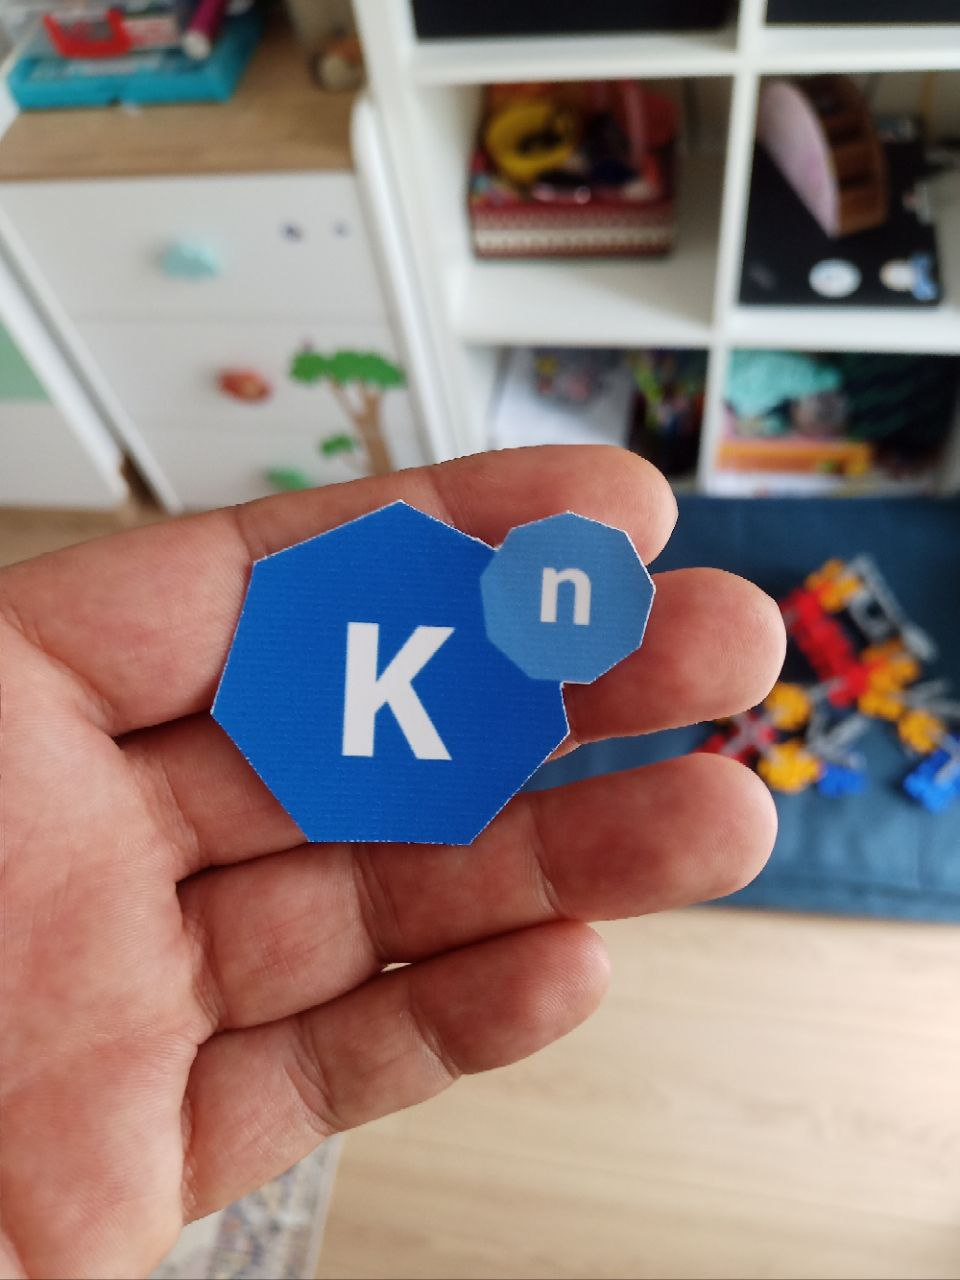knative: (208, 491, 655, 844)
